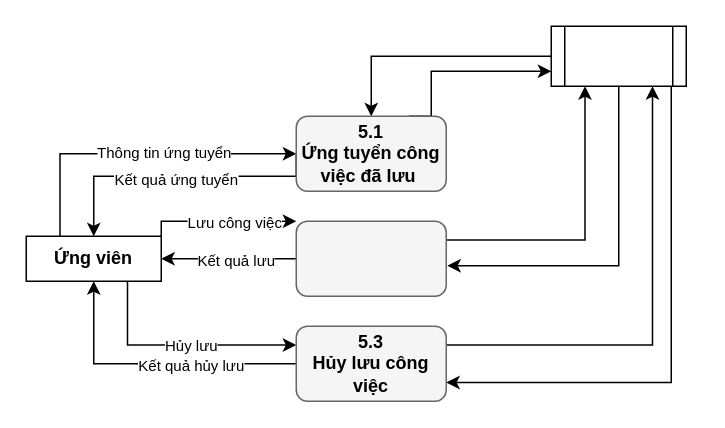
This 725x428 diagram has some shape labels left out. Here are the shapes that lost their labels. From the top down, the centre of each, then its label:
At [618,55]: "Công việc đã lưu".
At [370,258]: "5.2 Lưu công việc".
